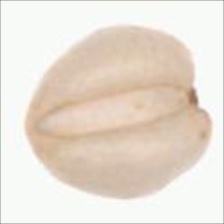L5: (34, 82, 191, 144), (184, 64, 211, 125)
L6: (21, 22, 213, 202)
